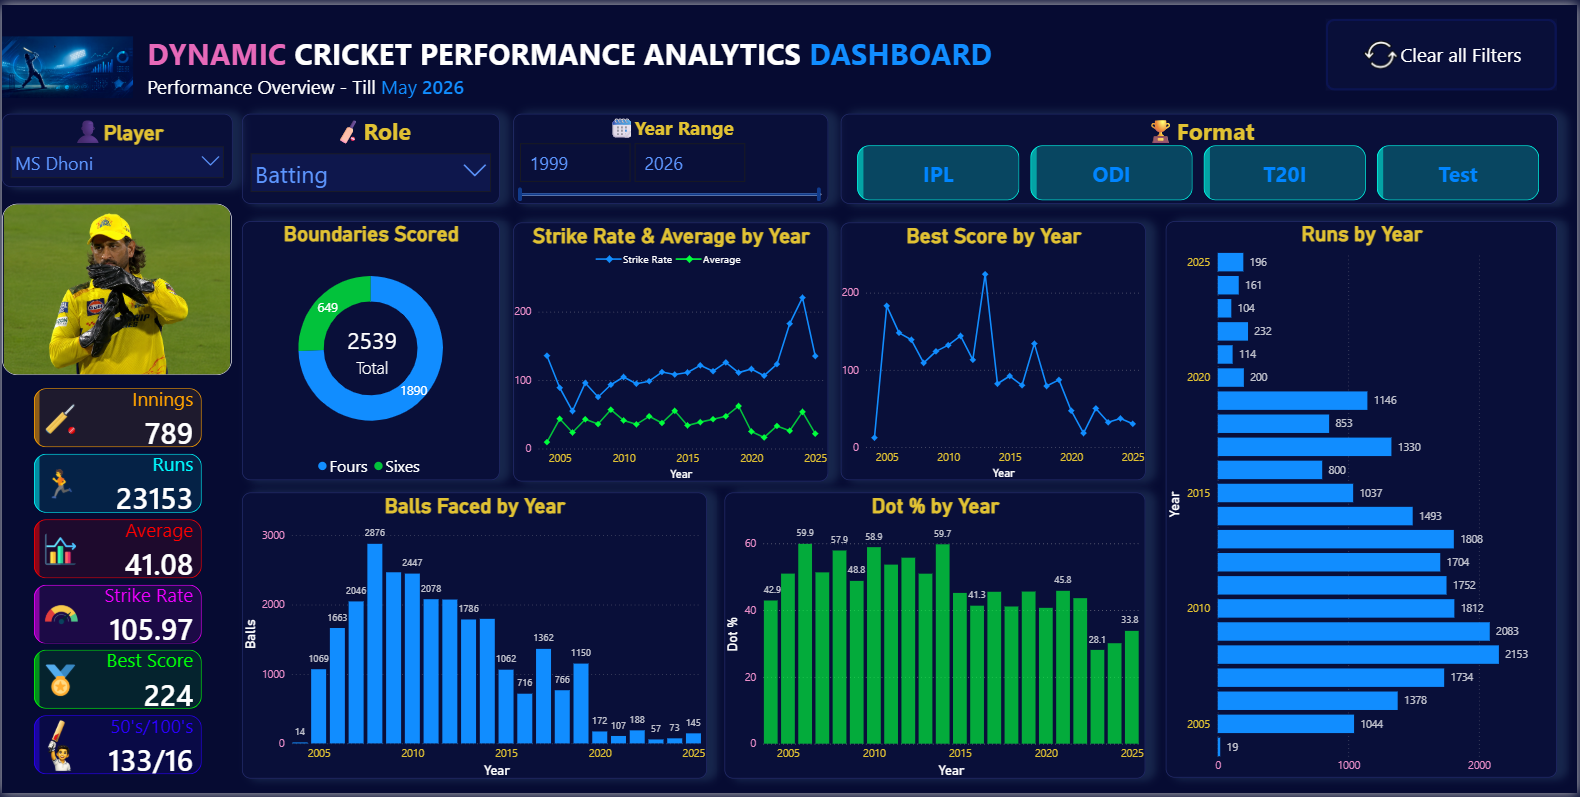

The page's visual inventory and layout, read from the dashboard file:
{"tool":"powerbi","page":{"name":"Page 1","canvas":[2000,1000],"ordinal":0},"visuals":[{"type":"slicer","title":"🗓️Year Range","fields":{"Values":["Years.Year"]},"box":[648.6,138.1,399.7,114.5],"z":0},{"type":"donutChart","fields":{"Y":["Style.Display Boundaries Fours","Style.Display Boundaries Sixes"]},"box":[305.2,274.3,327,328.9],"z":1000},{"type":"advancedSlicerVisual","title":"🏆Format","fields":{"Values":["Formats.Format"]},"box":[1064.7,138.1,910.2,114.5],"z":2000},{"type":"areaChart","title":"Strike Rate & Average by Year","fields":{"Y":["Style.Display Strike Rate","Style.Display Average"],"Category":["Years.Year"]},"box":[648.6,276.2,399.7,328.9],"z":3000},{"type":"slicer","title":"👤Player","fields":{"Values":["Players.Player"]},"box":[0,138.1,292.5,92.7],"z":4000},{"type":"image","box":[0,252.4,292.1,217.5],"z":5000},{"type":"slicer","title":"🏏Role","fields":{"Values":["Style.Style"]},"box":[305.2,138.1,327,114.5],"z":6000},{"type":"lineChart","fields":{"Y":["Style.Display Best Score/BBI Wickets"],"Category":["Years.Year"]},"box":[1064.7,276.2,387,327],"z":7000},{"type":"barChart","fields":{"Category":["Years.Year"],"Y":["Style.Display Runs/Wickets by Year"]},"box":[1477.4,274.2,496.8,706.5],"z":8000},{"type":"cardVisual","fields":{"Data":["Style.Display Innings","Style.Display Runs/Wickets","Style.Display Average","Style.Display Strike Rate/Economy","Style.Display Best Score/BBI","Style.Display 50s&100s / 5Wickets"]},"box":[23.6,470.6,247.1,528.7],"z":9000},{"type":"cardVisual","fields":{"Data":["Style.Display Total Boundaries"]},"box":[407.4,387,124.1,105.6],"z":10000},{"type":"clusteredColumnChart","fields":{"Category":["Years.Year"],"Y":["Style.Display Balls"]},"box":[304.8,619.4,590,363],"z":11000},{"type":"columnChart","title":"Dot % by Year","fields":{"Category":["Years.Year"],"Y":["Style.Display Dot %"]},"box":[917.5,619.6,534.2,363.4],"z":12000},{"type":"image","box":[0,18.3,166.7,120],"z":13000},{"type":"textbox","box":[180,18.3,1090,146.7],"z":14000},{"type":"actionButton","box":[1680.4,17.4,293.5,91.3],"z":15000}]}

Visuals, with their boxes in screenshot pixels (x1, y1, x2, y2), scaled from the page's 2000x1000 canvas onto the 1580x797 screenshot:
"🗓️Year Range" slicer: <region>512, 110, 828, 201</region>
donutChart - Style.Display Boundaries Fours x Style.Display Boundaries Sixes: <region>241, 219, 499, 481</region>
"🏆Format" advancedSlicerVisual: <region>841, 110, 1560, 201</region>
"Strike Rate & Average by Year" areaChart: <region>512, 220, 828, 482</region>
"👤Player" slicer: <region>0, 110, 231, 184</region>
image: <region>0, 201, 231, 375</region>
"🏏Role" slicer: <region>241, 110, 499, 201</region>
lineChart - Style.Display Best Score/BBI Wickets x Years.Year: <region>841, 220, 1147, 481</region>
barChart - Years.Year x Style.Display Runs/Wickets by Year: <region>1167, 219, 1560, 782</region>
cardVisual - Style.Display Innings x Style.Display Runs/Wickets: <region>19, 375, 214, 796</region>
cardVisual - Style.Display Total Boundaries: <region>322, 308, 420, 393</region>
clusteredColumnChart - Years.Year x Style.Display Balls: <region>241, 494, 707, 783</region>
"Dot % by Year" columnChart: <region>725, 494, 1147, 783</region>
image: <region>0, 15, 132, 110</region>
textbox: <region>142, 15, 1003, 132</region>
actionButton: <region>1328, 14, 1559, 87</region>
